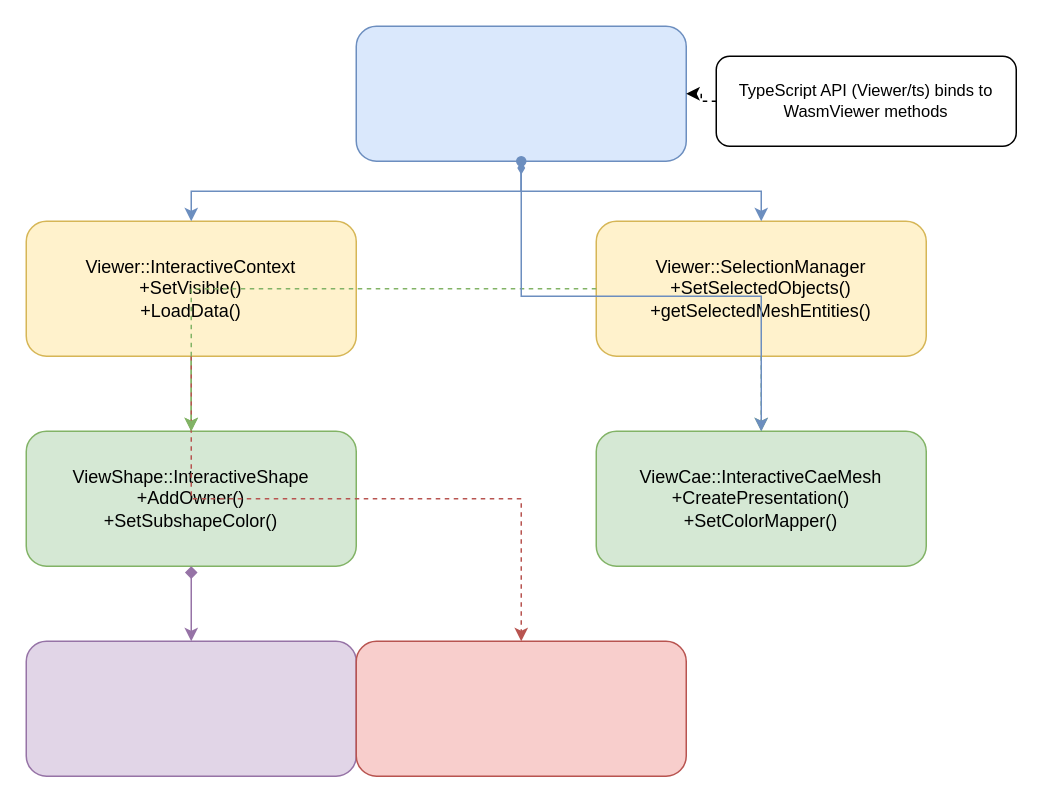
The diagram is 1043 pixels wide and 803 high, and some of its shapes have lost their labels. Each missing label, with the centre of its shape:
RWBase::TaskManager +RunAsync() +RunMain(): [520,708]
RWShape::ShapeData +GetSingleShape() +SetSubshapeHidden(): [190,708]
Viewer::WasmViewer +Init() +GetManager(): [520,93]
